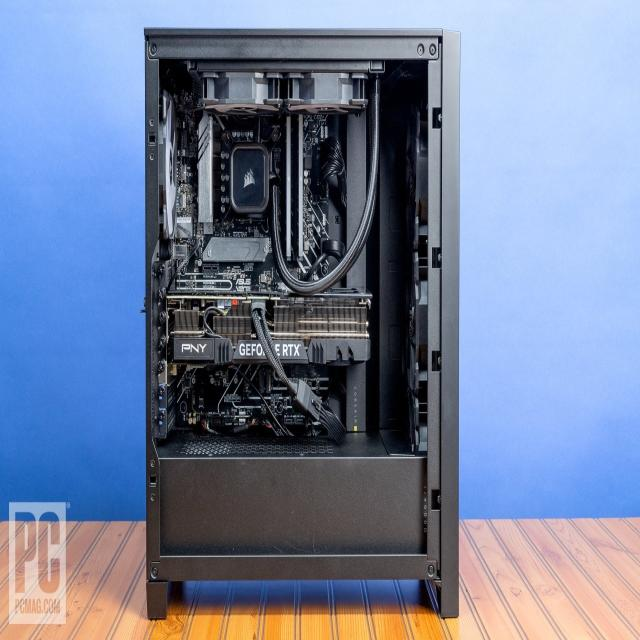electronics: (145, 30, 459, 617), (155, 60, 380, 443), (165, 67, 373, 437), (197, 111, 279, 235), (276, 114, 340, 259), (199, 67, 367, 116), (269, 297, 370, 364), (269, 297, 369, 361), (172, 299, 268, 364), (220, 118, 279, 217), (273, 297, 369, 343), (172, 297, 255, 348), (200, 71, 282, 116), (284, 72, 368, 113), (283, 115, 304, 259), (228, 142, 269, 213), (196, 114, 220, 235), (310, 136, 347, 210), (159, 91, 177, 236), (201, 236, 268, 264), (171, 337, 232, 364), (320, 73, 368, 92), (274, 340, 309, 364), (173, 310, 199, 337), (234, 341, 268, 361), (174, 216, 193, 239), (369, 146, 378, 193), (176, 193, 189, 225), (330, 415, 346, 441), (372, 80, 379, 130), (357, 131, 376, 148), (172, 244, 188, 258), (356, 100, 367, 114), (212, 281, 229, 290), (174, 412, 183, 428), (217, 299, 231, 308), (300, 258, 309, 267), (352, 401, 357, 414), (311, 356, 320, 361), (360, 389, 364, 398), (274, 76, 280, 82), (203, 265, 208, 271), (308, 159, 312, 166), (193, 65, 197, 72), (210, 265, 215, 270), (186, 380, 189, 388), (205, 280, 209, 284), (309, 398, 313, 402), (281, 78, 285, 82), (353, 216, 356, 220), (216, 103, 222, 105), (207, 91, 210, 95), (263, 119, 268, 121), (217, 92, 222, 94), (239, 283, 242, 286), (345, 357, 348, 360), (361, 260, 363, 264), (336, 211, 339, 213), (186, 233, 188, 236), (197, 401, 199, 404), (179, 196, 181, 199), (166, 433, 168, 436), (162, 433, 164, 436), (167, 408, 172, 409), (308, 274, 310, 276), (183, 230, 185, 232), (158, 265, 160, 267), (193, 131, 195, 133), (335, 97, 337, 99), (220, 97, 222, 99), (320, 84, 322, 86), (187, 396, 188, 399), (181, 389, 184, 390), (309, 267, 311, 268), (267, 124, 268, 126), (277, 147, 279, 148), (367, 343, 368, 345), (209, 86, 210, 88), (319, 84, 320, 86), (185, 400, 186, 401), (187, 236, 188, 236)
